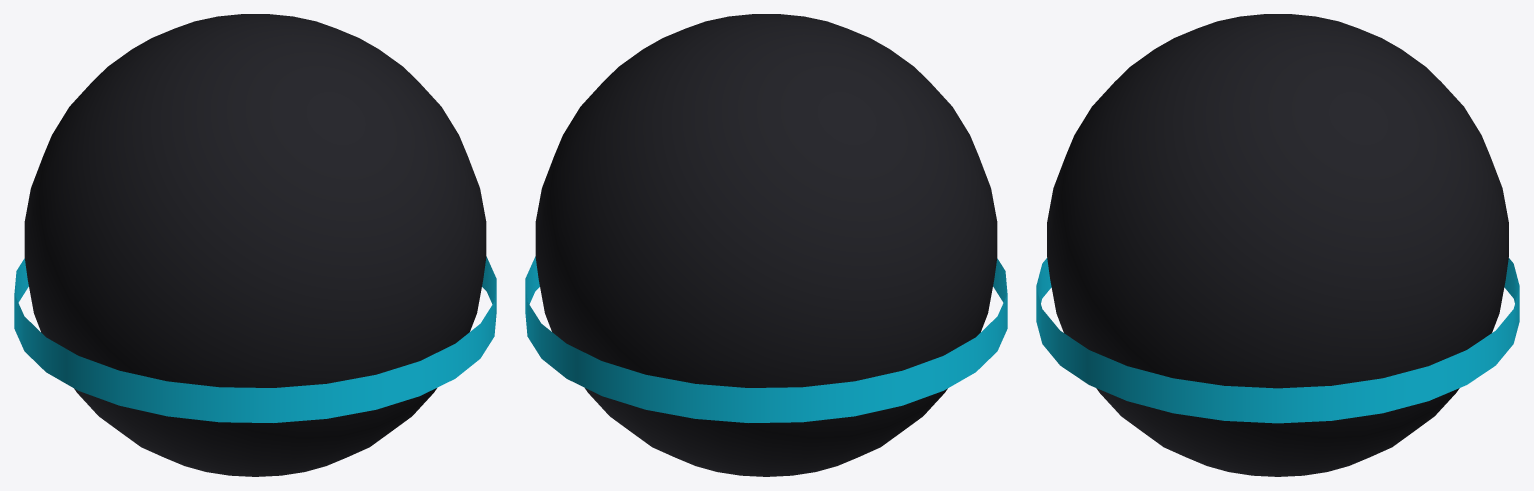
The model's file is CyberneticHelmet.obj.
The picture shows the model from 3 angles, left to right: view 1: azimuth 30°, elevation 25°; view 2: azimuth 150°, elevation 25°; view 3: azimuth 270°, elevation 25°; orthographic projection.
Size of the model in its own units: 1.5 by 1.44 by 1.5.
